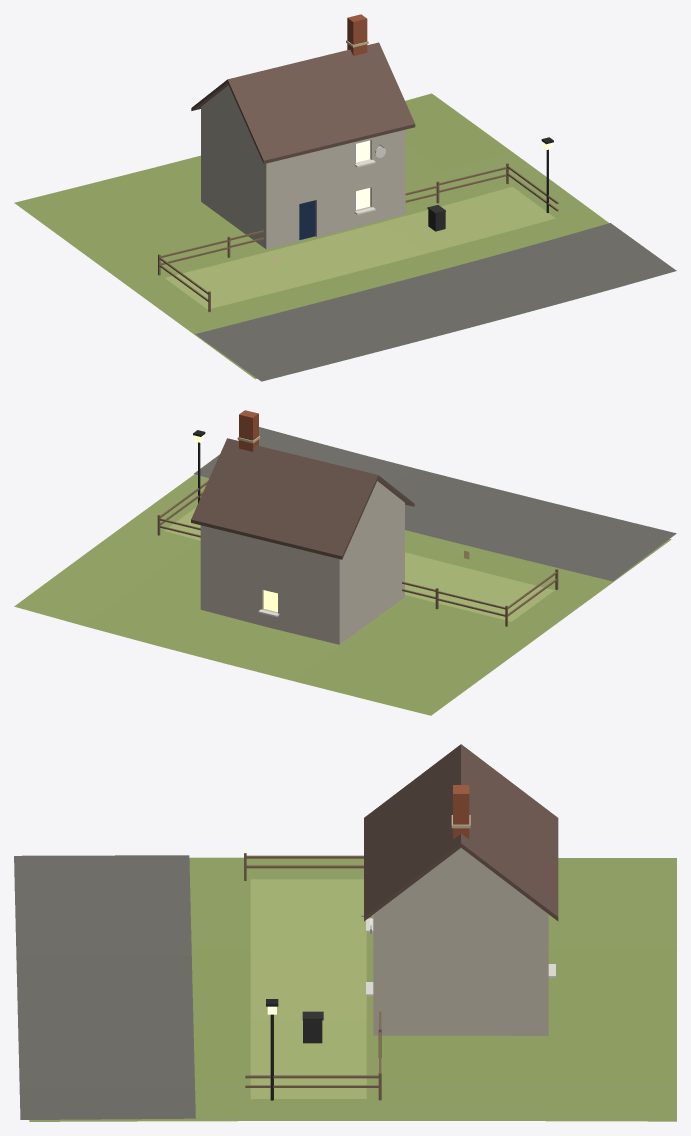
File: last_house-evening.glb
The picture shows the model from 3 angles, top to bottom: view 1: azimuth 30°, elevation 25°; view 2: azimuth 150°, elevation 25°; view 3: azimuth 270°, elevation 25°; orthographic projection. The views are drawn at different scales.
Parts seen in each view (by area): view 1: ground, ground_lanes, last_house_shell, cut_roof_last_house, ground_areas, boundaries, last_house_walls; view 2: ground, last_house_shell, ground_lanes, cut_roof_last_house, ground_areas, boundaries; view 3: ground, ground_lanes, last_house_shell, ground_areas, cut_roof_last_house, boundaries, prop_last_bin.
Boxes of the visible parts, bbox=[...] form: ground: bbox=[14, 93, 608, 379]; ground_lanes: bbox=[195, 223, 676, 381]; last_house_shell: bbox=[201, 85, 405, 249]; cut_roof_last_house: bbox=[191, 14, 415, 163]; ground_areas: bbox=[165, 187, 555, 309]; boundaries: bbox=[158, 163, 558, 312]; last_house_walls: bbox=[299, 140, 375, 239]; ground: bbox=[14, 474, 671, 715]; last_house_shell: bbox=[200, 481, 404, 644]; ground_lanes: bbox=[194, 427, 676, 581]; cut_roof_last_house: bbox=[191, 410, 414, 559]; ground_areas: bbox=[164, 507, 554, 621]; boundaries: bbox=[157, 481, 558, 626]; ground: bbox=[29, 857, 676, 1121]; ground_lanes: bbox=[14, 855, 195, 1119]; last_house_shell: bbox=[373, 848, 548, 1035]; ground_areas: bbox=[250, 879, 366, 1099]; cut_roof_last_house: bbox=[364, 744, 558, 921]; boundaries: bbox=[244, 853, 381, 1100]; prop_last_bin: bbox=[302, 1011, 323, 1043].
Bounding box in the file's own units: 24.06 × 10.23 × 24.57.
